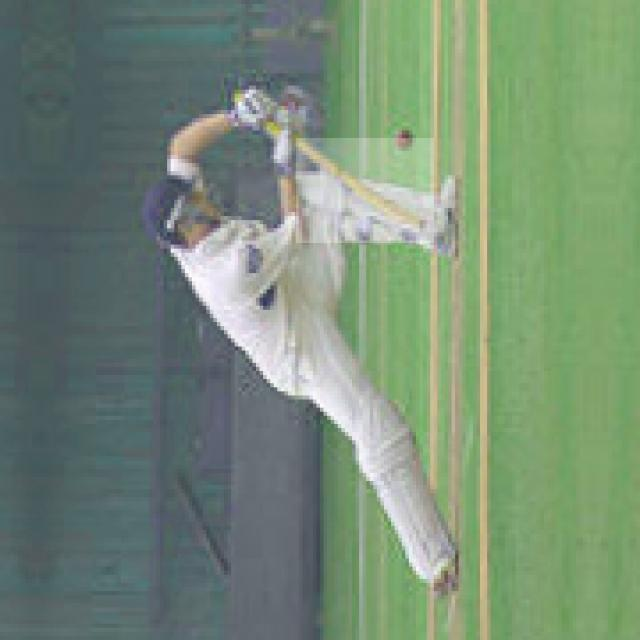bat: (299, 141, 434, 243)
